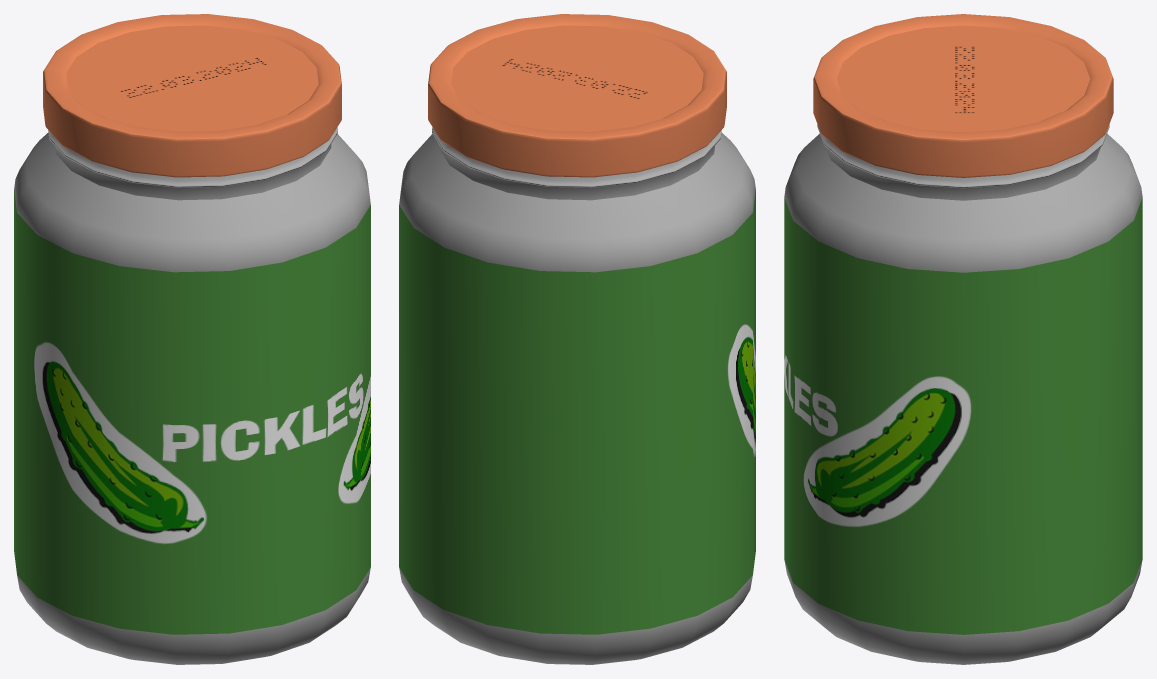
File: Jar.fbx
The picture shows the model from 3 angles, left to right: view 1: azimuth 30°, elevation 25°; view 2: azimuth 150°, elevation 25°; view 3: azimuth 270°, elevation 25°; orthographic projection.
Visible parts, largest first — view 1: Jar; view 2: Jar; view 3: Jar.
Boxes of the visible parts, box(x1,y1,x2,y2) form: Jar: box(14, 14, 370, 664); Jar: box(399, 14, 755, 664); Jar: box(784, 14, 1142, 664).
Bounding box in the file's own units: 0.9905 × 1.62 × 0.9905.
2 materials, 1 textured.
